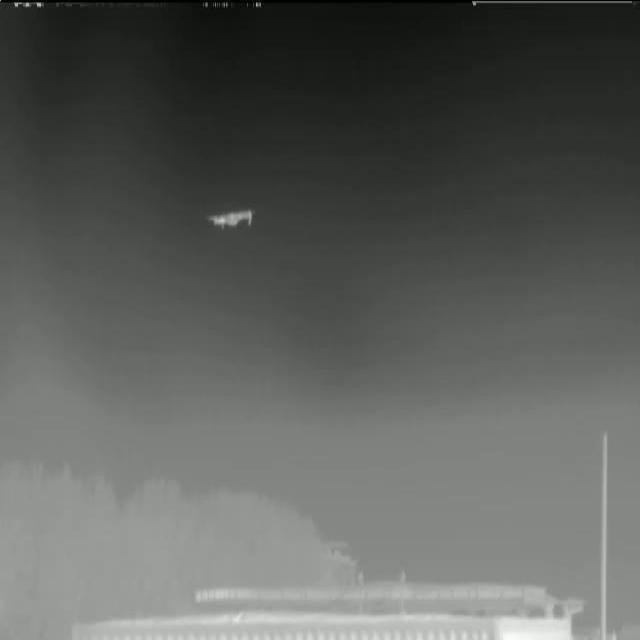DRONE: (200, 199, 266, 239)
